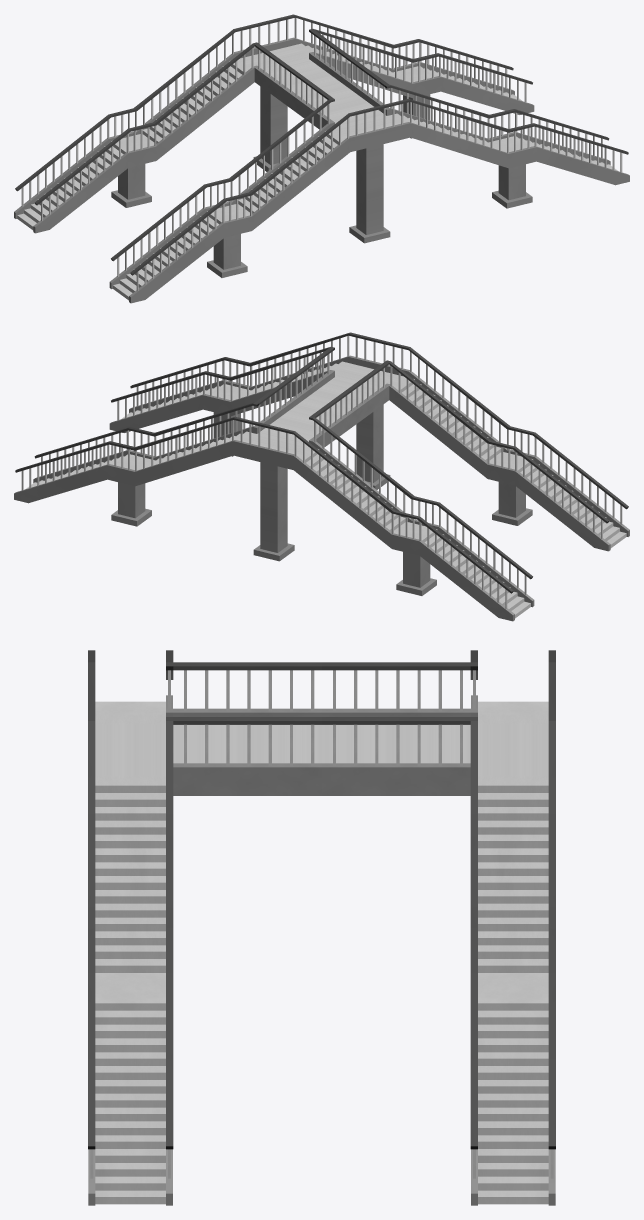
File: overpass_2road.fbx
3 renders of one model, top to bottom at view 1: azimuth 30°, elevation 25°; view 2: azimuth 150°, elevation 25°; view 3: azimuth 270°, elevation 25°, orthographic. The views are drawn at different scales.
Parts seen in each view (by area): view 1: overstair01, overstair02, overplatform01, overplatform02; view 2: overstair02, overstair01, overplatform02, overplatform01; view 3: overstair02, overstair01, overplatform01, overplatform02.
Boxes of the visible parts, left/top/right/bottom form: overstair01: left=109, top=84, right=629, bottom=303; overstair02: left=14, top=14, right=534, bottom=233; overplatform01: left=254, top=30, right=351, bottom=108; overplatform02: left=292, top=57, right=388, bottom=129; overstair02: left=14, top=402, right=534, bottom=621; overstair01: left=109, top=332, right=629, bottom=551; overplatform02: left=292, top=348, right=389, bottom=426; overplatform01: left=255, top=375, right=351, bottom=447; overstair02: left=470, top=650, right=555, bottom=1205; overstair01: left=88, top=650, right=173, bottom=1205; overplatform01: left=322, top=662, right=470, bottom=795; overplatform02: left=173, top=662, right=321, bottom=795.
Bounding box in the file's own units: 2444 × 633 × 992.
